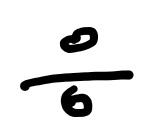div: (20, 27, 133, 117)
